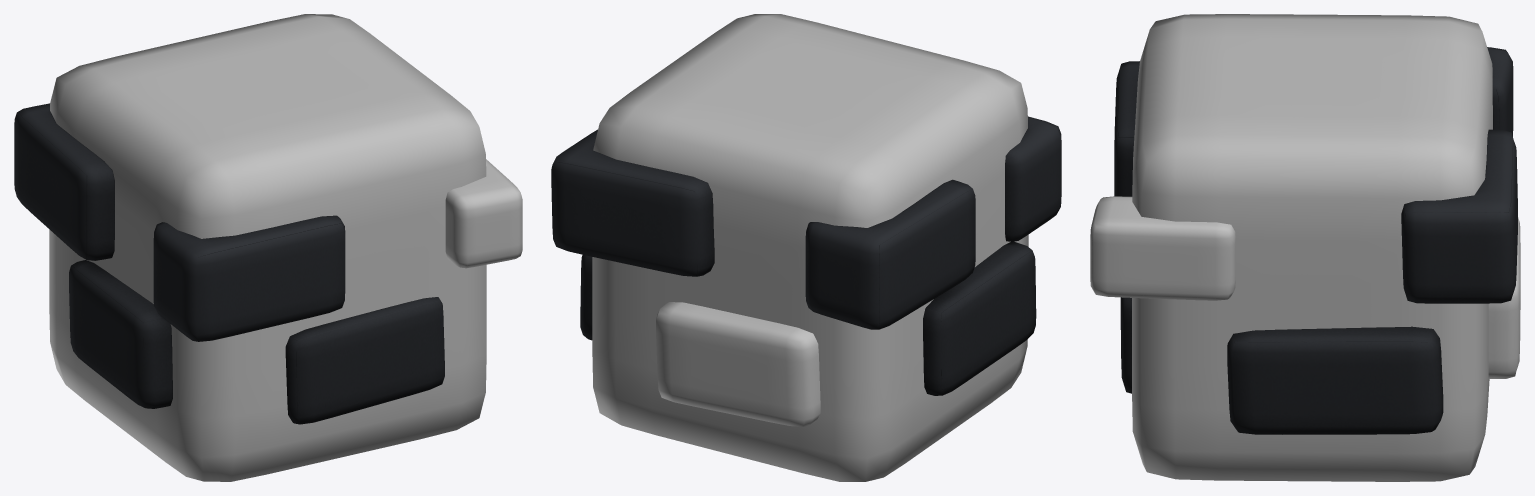
Rendered from wall.glb.
The picture shows the model from 3 angles, left to right: view 1: azimuth 30°, elevation 25°; view 2: azimuth 150°, elevation 25°; view 3: azimuth 270°, elevation 25°; orthographic projection. The views are drawn at different scales.
Visible parts, largest first — view 1: Cube.016; view 2: Cube.016; view 3: Cube.016.
Boxes of the visible parts, <box> form: Cube.016: <box>14,14,522,481</box>; Cube.016: <box>551,14,1061,481</box>; Cube.016: <box>1090,14,1520,481</box>.
Size of the model in its own units: 1.09 by 0.9535 by 1.09.
2 materials, 1 textured.
